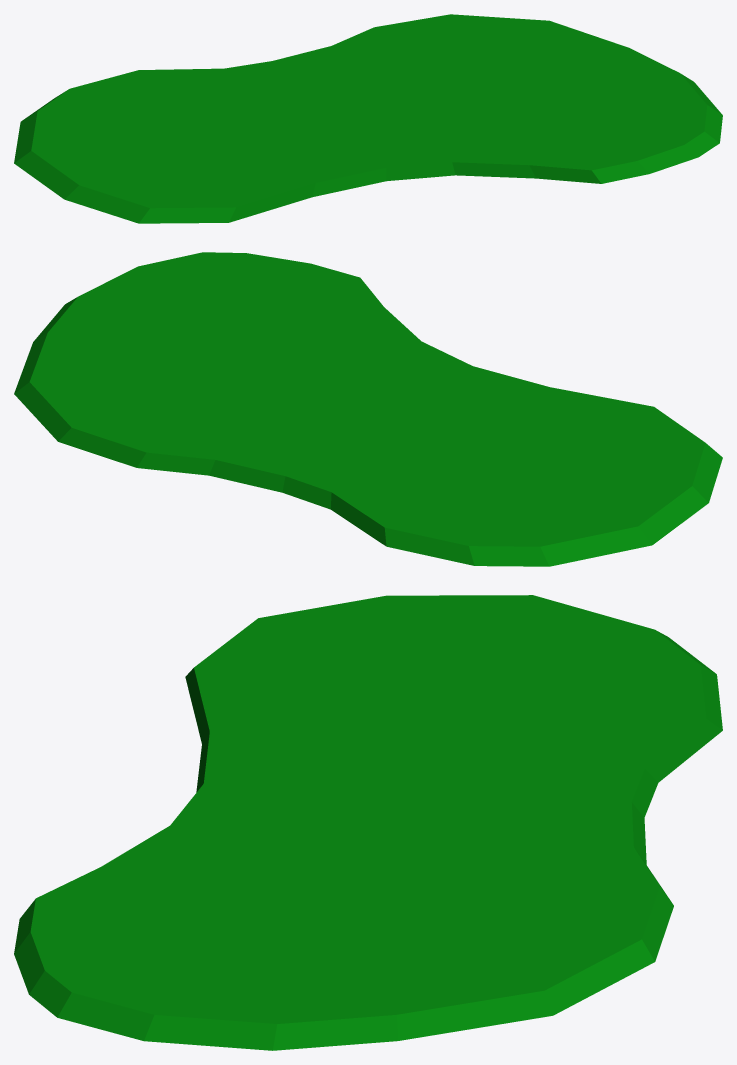
File: Ground_3.fbx
The picture shows the model from 3 angles, top to bottom: view 1: azimuth 30°, elevation 25°; view 2: azimuth 150°, elevation 25°; view 3: azimuth 270°, elevation 25°; orthographic projection. The views are drawn at different scales.
Visible parts, largest first — view 1: Ground_3; view 2: Ground_3; view 3: Ground_3.
Boxes of the visible parts, box(x1,y1,x2,y2) form: Ground_3: box(14, 14, 722, 223); Ground_3: box(14, 252, 722, 566); Ground_3: box(14, 595, 722, 1050).
Bounding box in the file's own units: 2234 × 39.37 × 1488.
